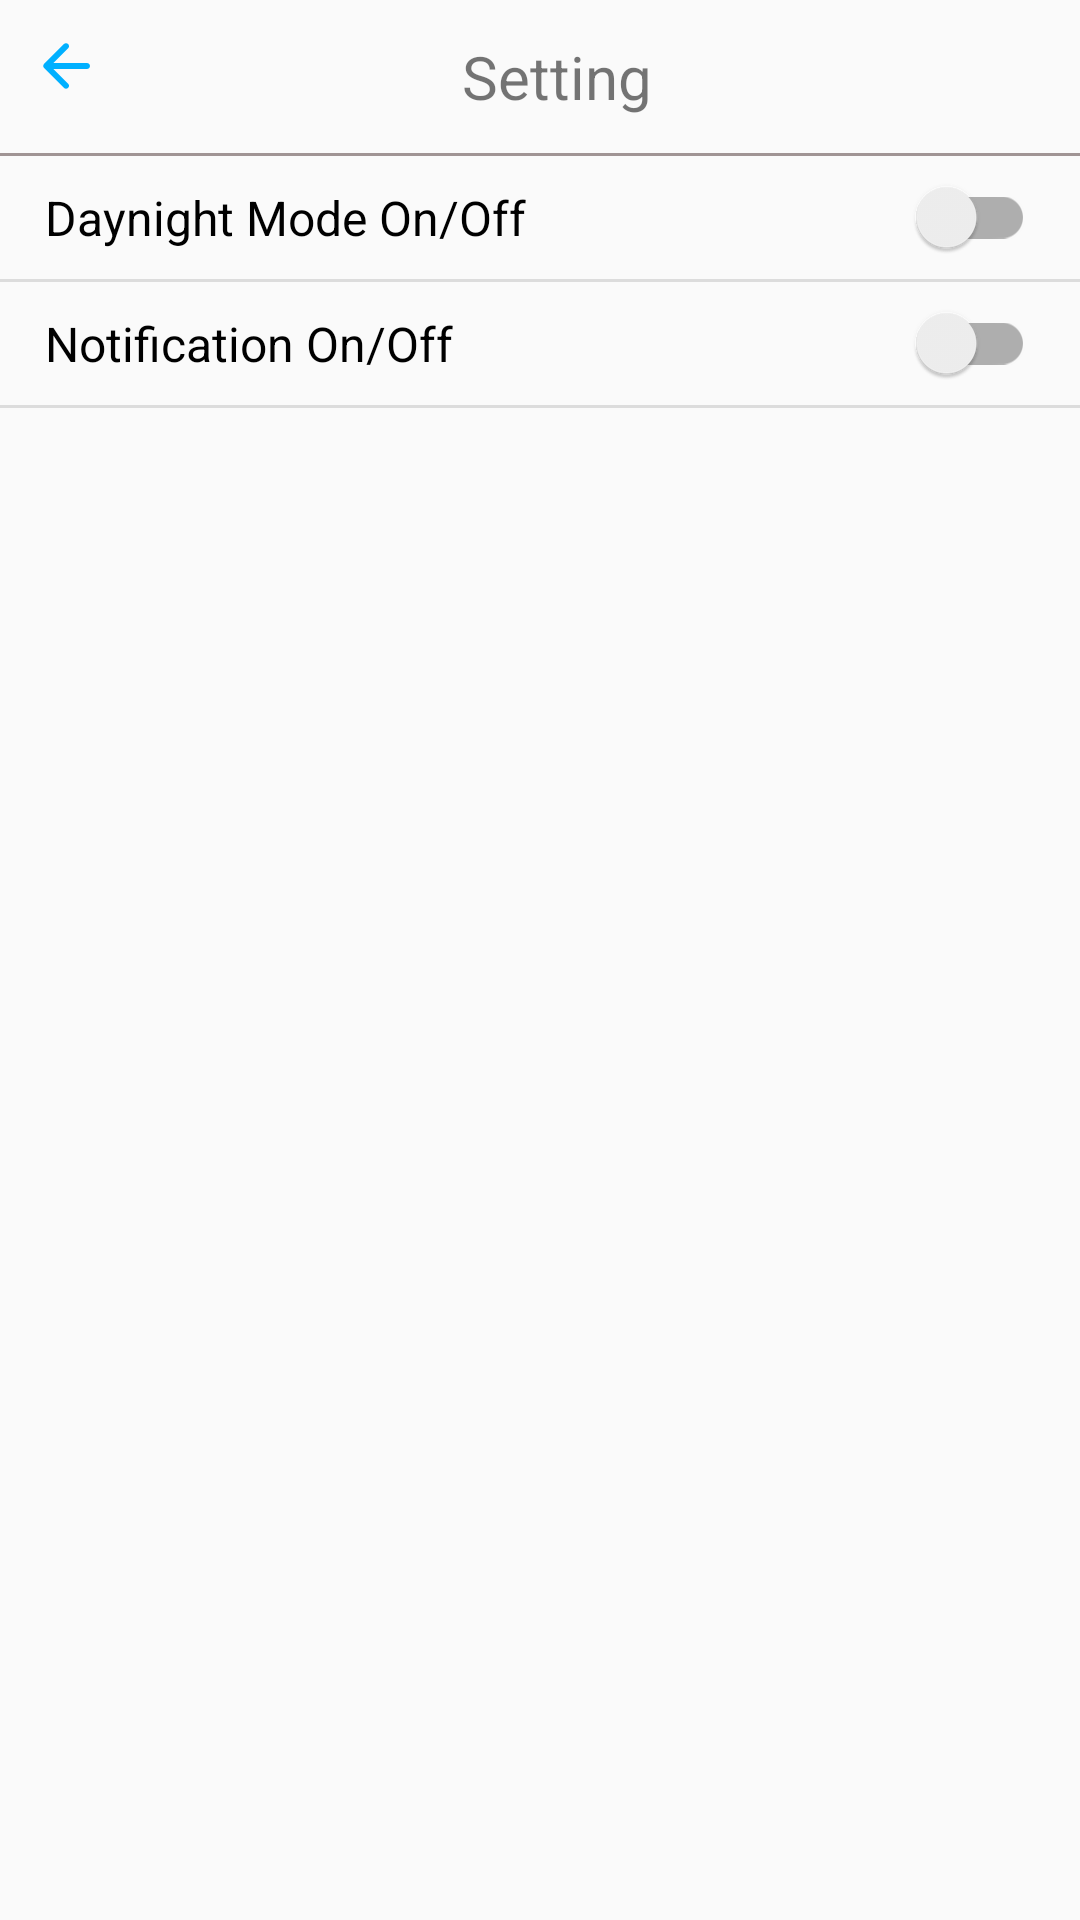

Named icons in this screenshot (1080w x 1920h) and their bounding boxes, (x1, y1, x2, y2):
arrow back: (43, 43, 90, 89)
